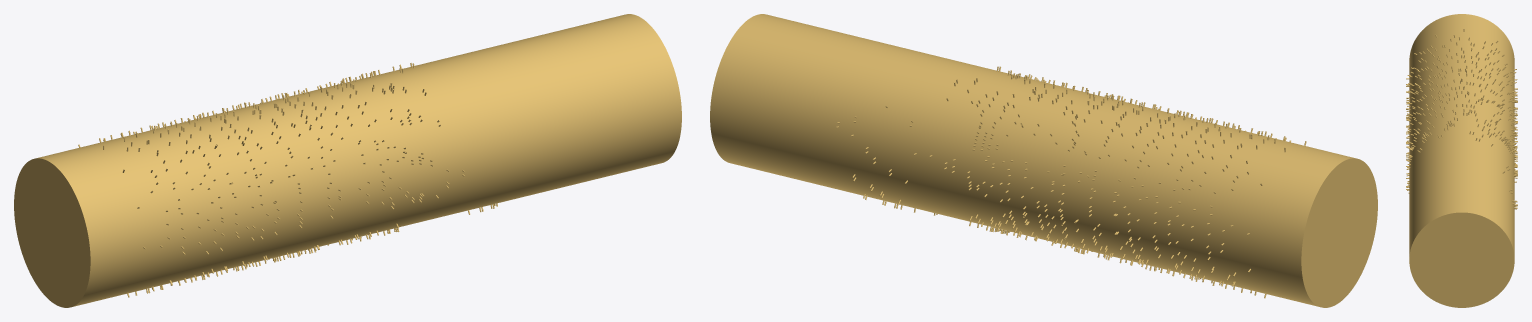
File: Cylinder-5-Bonus-Classics.glb
3 renders of one model, left to right at view 1: azimuth 30°, elevation 25°; view 2: azimuth 150°, elevation 25°; view 3: azimuth 270°, elevation 25°, orthographic. The views are drawn at different scales.
Parts seen in each view (by area): view 1: cylinder_body; view 2: cylinder_body; view 3: cylinder_body.
Boxes of the visible parts, x1=… form: cylinder_body: x1=14, y1=14, x2=681, y2=307; cylinder_body: x1=710, y1=14, x2=1377, y2=307; cylinder_body: x1=1409, y1=14, x2=1514, y2=307.
Bounding box in the file's own units: 0.214 × 0.051 × 0.051.
